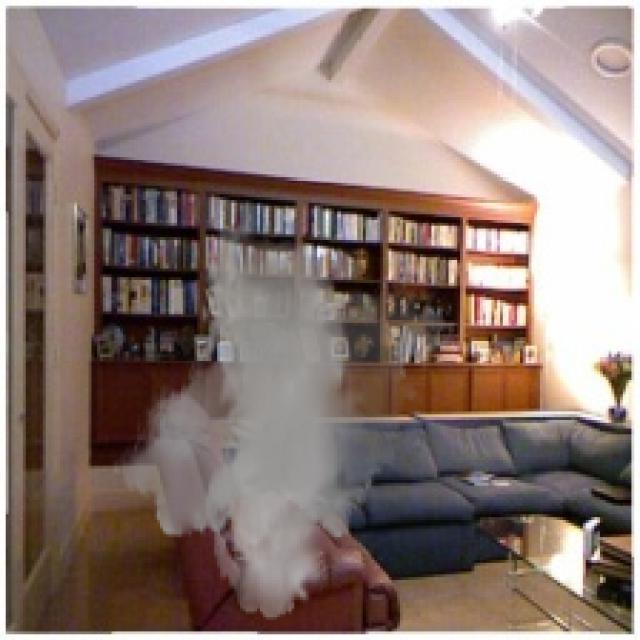smoke: (112, 223, 457, 620)
